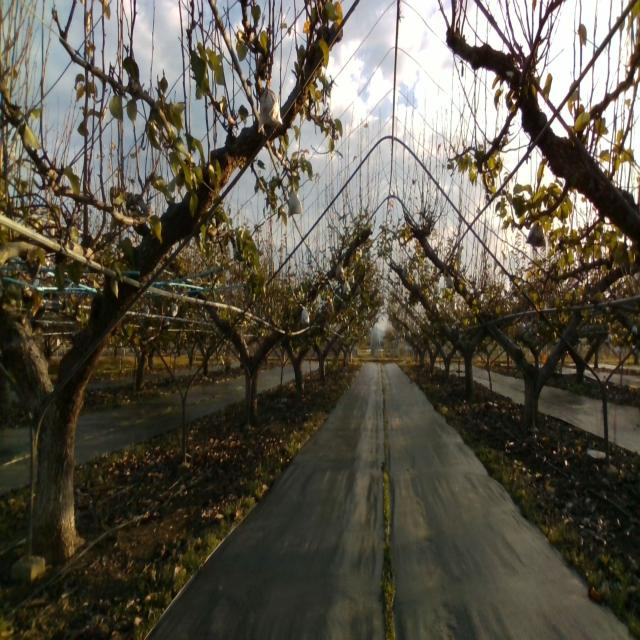pearbags: (255, 88, 284, 133), (286, 185, 305, 219), (525, 219, 547, 247)
